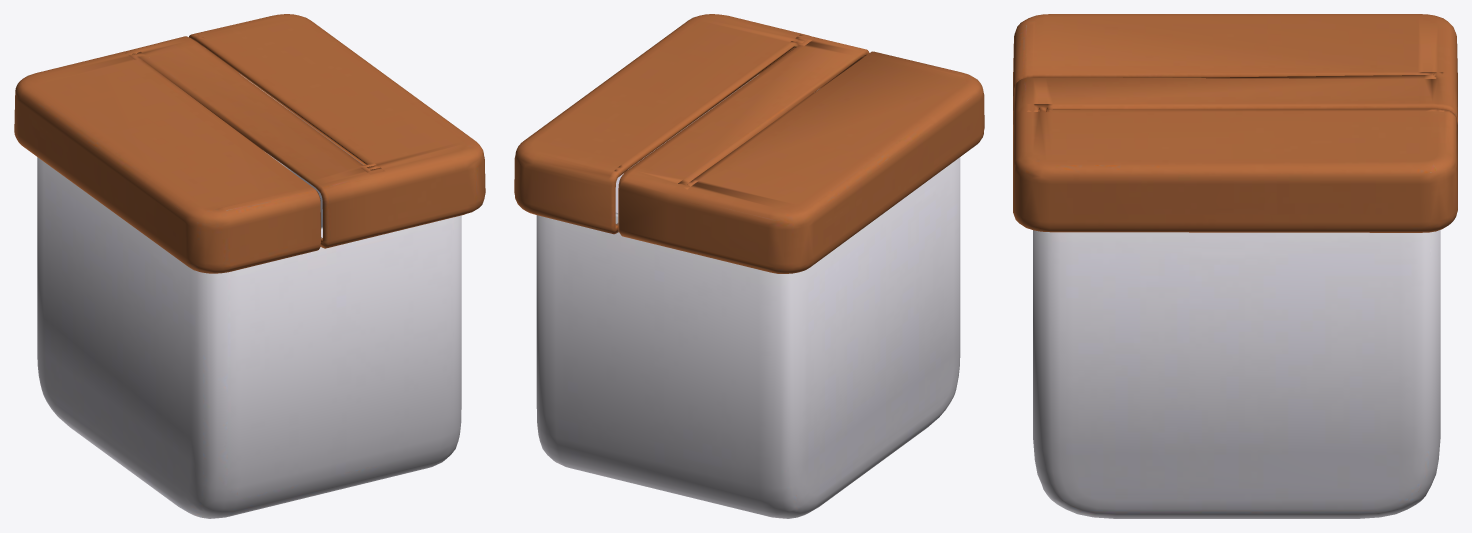
Rendered from selected.glb.
The picture shows the model from 3 angles, left to right: view 1: azimuth 30°, elevation 25°; view 2: azimuth 150°, elevation 25°; view 3: azimuth 270°, elevation 25°; orthographic projection. The views are drawn at different scales.
Visible parts, largest first — view 1: tripo_node_d8e2dc6f-ff4f-43fe-81ec-5d71bbbe93b7; view 2: tripo_node_d8e2dc6f-ff4f-43fe-81ec-5d71bbbe93b7; view 3: tripo_node_d8e2dc6f-ff4f-43fe-81ec-5d71bbbe93b7.
Part boxes in pixels (<box>): tripo_node_d8e2dc6f-ff4f-43fe-81ec-5d71bbbe93b7: <box>14,14,485,518</box>; tripo_node_d8e2dc6f-ff4f-43fe-81ec-5d71bbbe93b7: <box>514,14,984,518</box>; tripo_node_d8e2dc6f-ff4f-43fe-81ec-5d71bbbe93b7: <box>1013,14,1457,518</box>.
Bounding box in the file's own units: 0.8496 × 0.916 × 0.998.
Materials: 1 (1 with a texture image).
